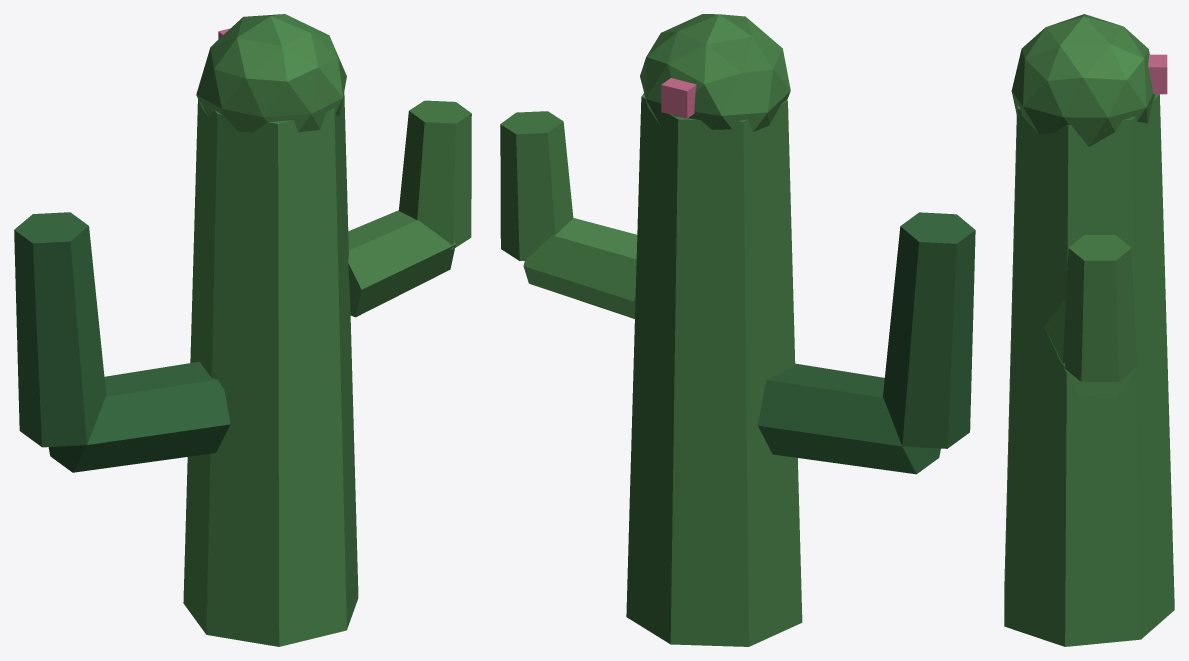
The model's file is Scatter_CactusA.fbx.
The picture shows the model from 3 angles, left to right: view 1: azimuth 30°, elevation 25°; view 2: azimuth 150°, elevation 25°; view 3: azimuth 270°, elevation 25°; orthographic projection.
Visible parts, largest first — view 1: CactusA; view 2: CactusA; view 3: CactusA.
Part boxes in pixels (x1=…): CactusA: x1=14, y1=14, x2=471, y2=646; CactusA: x1=500, y1=14, x2=975, y2=646; CactusA: x1=1004, y1=14, x2=1174, y2=646.
Bounding box in the file's own units: 6.9 × 8.74 × 2.28.
